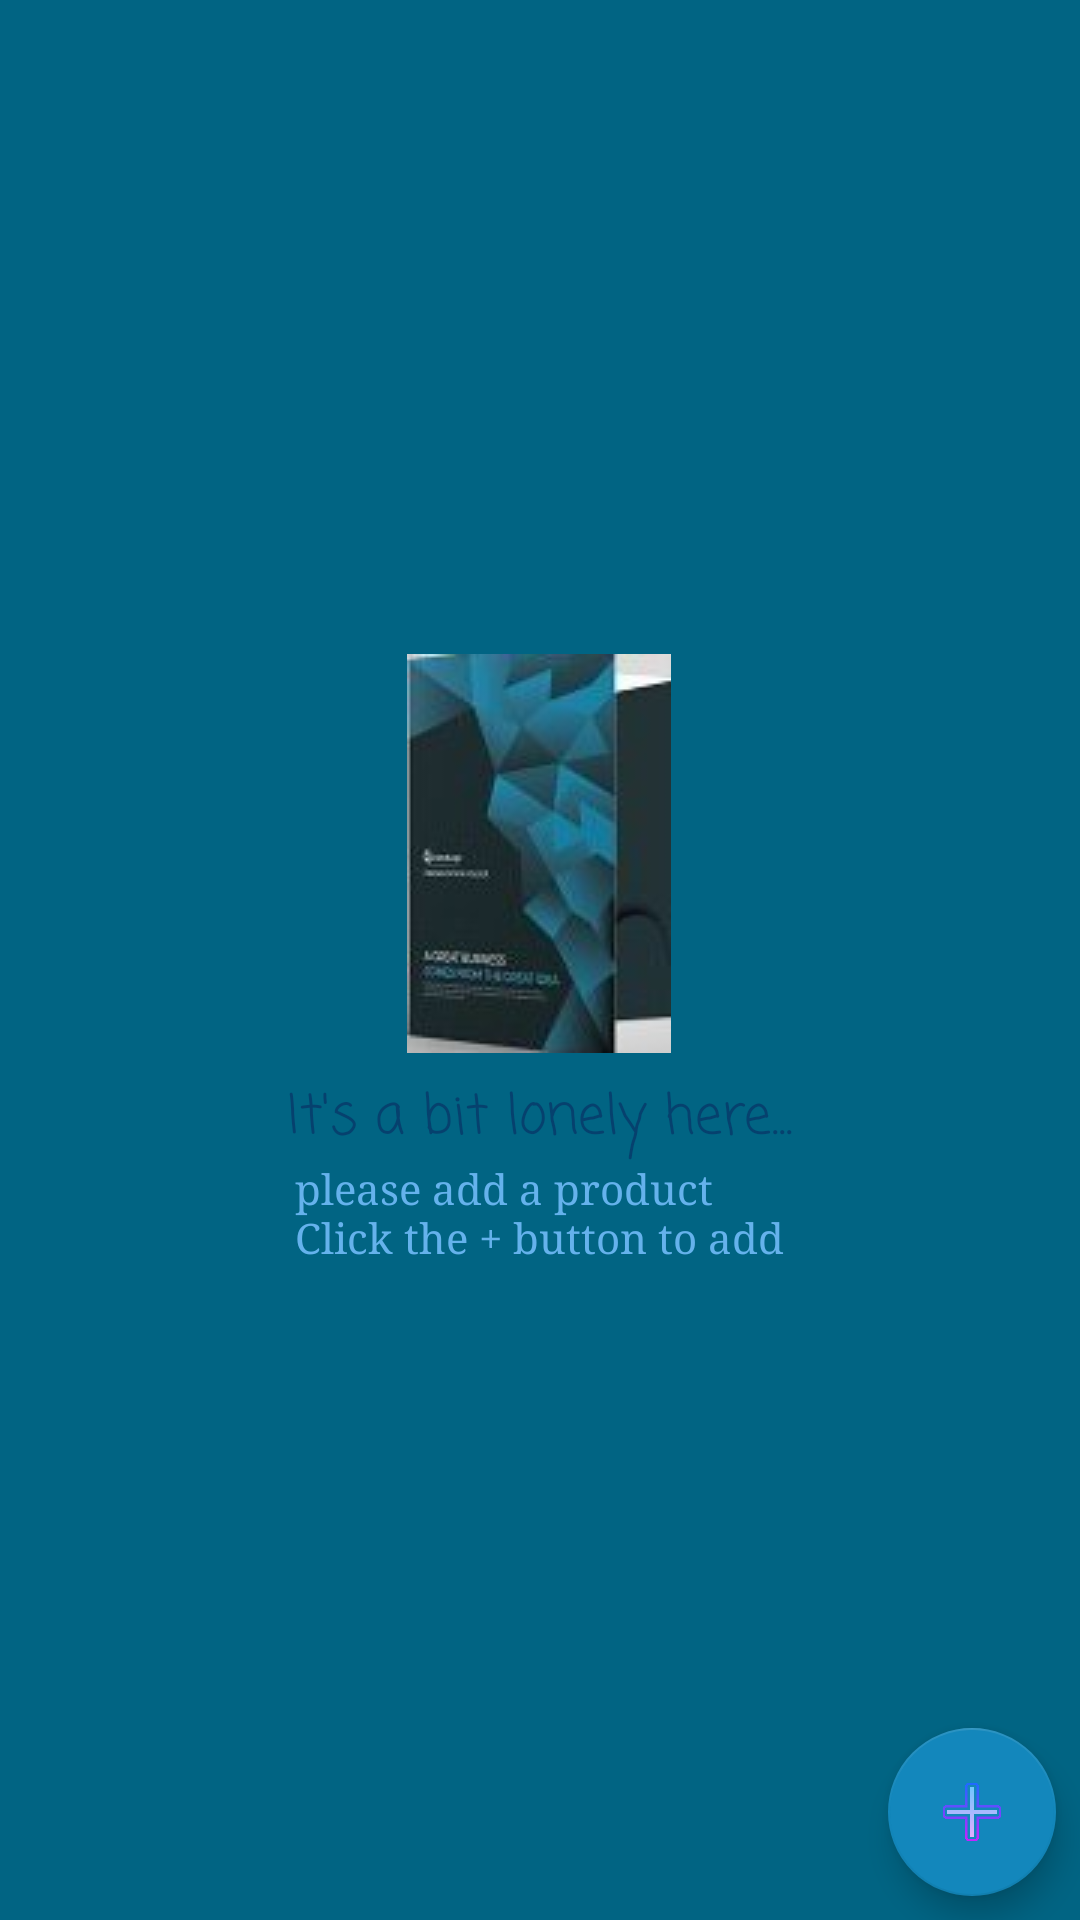

Icons on this 1080*1920 Android screen, each with its box as [left=x1, top=y1, right=x2, bottom=y2]:
add product: [left=888, top=1728, right=1056, bottom=1896]
